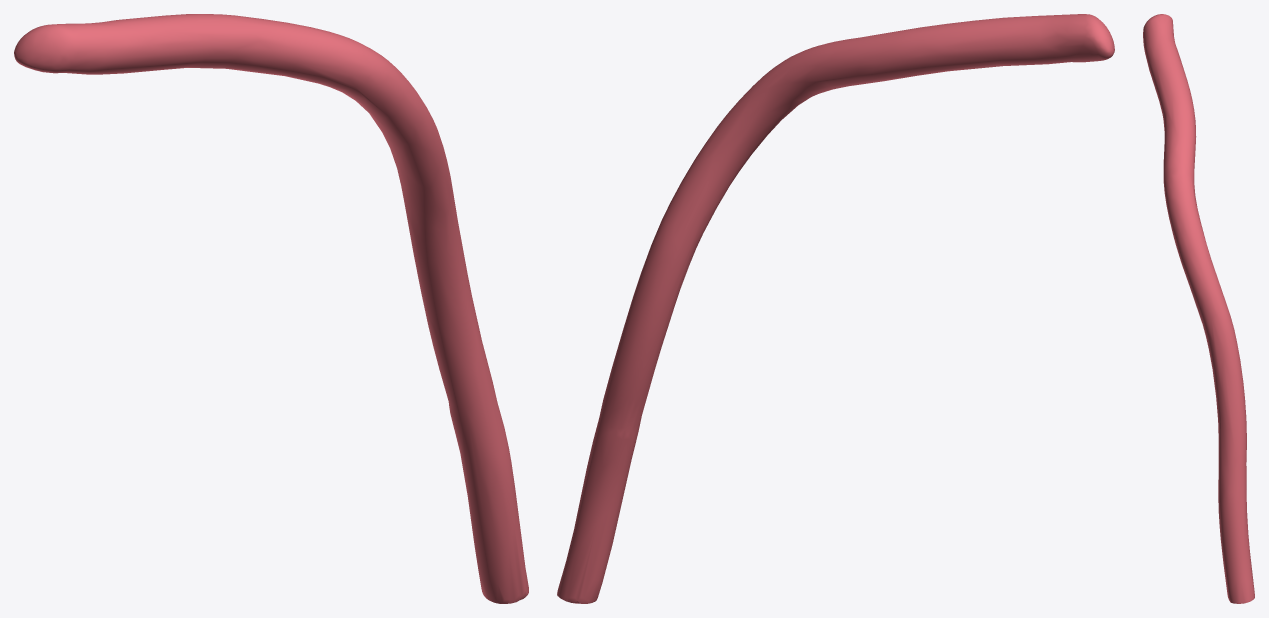
Rendered from fma13331_fj2217.glb.
3 views of the same model, side by side, from view 1: azimuth 30°, elevation 25°; view 2: azimuth 150°, elevation 25°; view 3: azimuth 270°, elevation 25° (orthographic). The views are drawn at different scales.
Parts seen in each view (by area): view 1: FMA13331_FJ2217; view 2: FMA13331_FJ2217; view 3: FMA13331_FJ2217.
Part boxes in pixels (x1,y1,x2,y2): FMA13331_FJ2217: (14,14,528,603); FMA13331_FJ2217: (557,14,1114,603); FMA13331_FJ2217: (1143,14,1254,603).
Bounding box in the file's own units: 0.0822 × 0.1023 × 0.0238.
